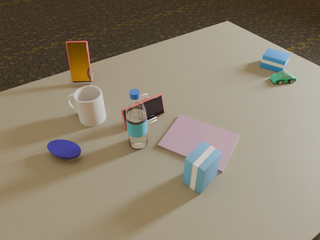book: (158, 114, 239, 173)
bottle: (126, 89, 148, 149)
box: (183, 141, 222, 194), (260, 48, 290, 72)
cup: (67, 86, 106, 126)
mouse: (47, 140, 81, 159)
phone: (121, 94, 164, 129), (66, 41, 92, 83)
toy_car: (270, 69, 296, 84)
